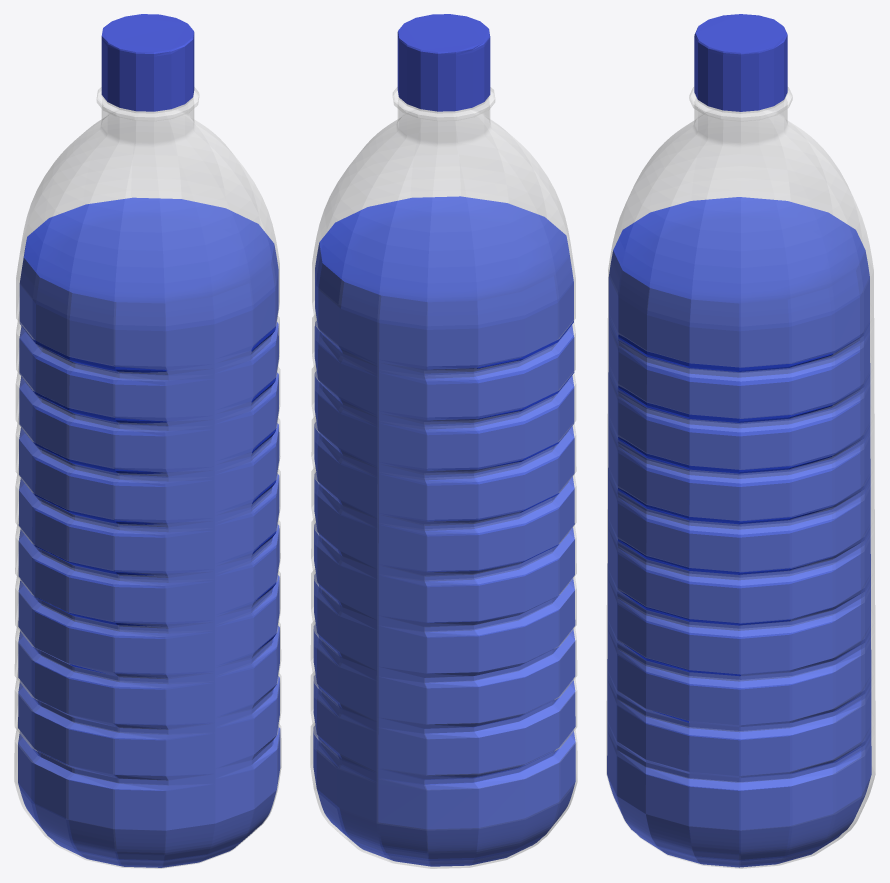
The model's file is water.FBX.
3 renders of one model, left to right at view 1: azimuth 30°, elevation 25°; view 2: azimuth 150°, elevation 25°; view 3: azimuth 270°, elevation 25°, orthographic.
Parts seen in each view (by area): view 1: Line002, water001; view 2: Line002, water001; view 3: Line002, water001.
Part boxes in pixels (x1=…): Line002: x1=14, y1=14, x2=281, y2=868; water001: x1=18, y1=197, x2=280, y2=867; Line002: x1=310, y1=14, x2=577, y2=868; water001: x1=313, y1=196, x2=575, y2=866; Line002: x1=606, y1=14, x2=875, y2=868; water001: x1=607, y1=197, x2=871, y2=867.
Bounding box in the file's own units: 165 × 537 × 165.
